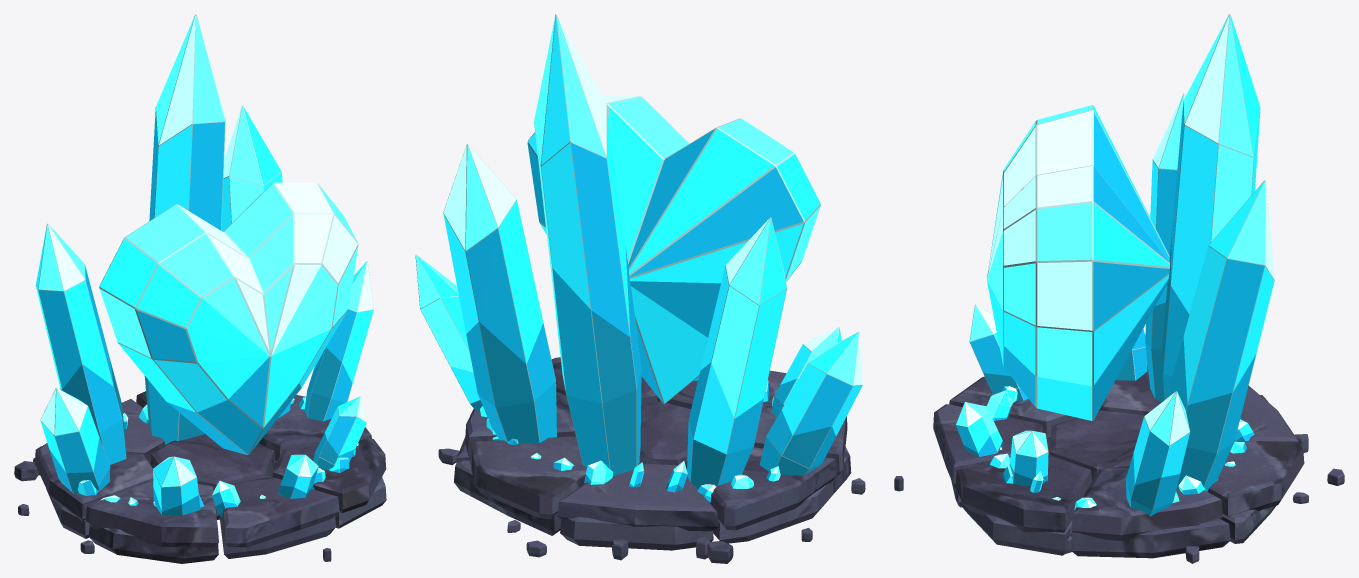
The model's file is SM_CC_CrystalHeart.fbx.
3 renders of one model, left to right at view 1: azimuth 30°, elevation 25°; view 2: azimuth 150°, elevation 25°; view 3: azimuth 270°, elevation 25°, orthographic. The views are drawn at different scales.
Visible parts, largest first — view 1: SM_CC_CrystalHeart; view 2: SM_CC_CrystalHeart; view 3: SM_CC_CrystalHeart.
Part boxes in pixels (x1,y1,x2,y2): SM_CC_CrystalHeart: [14, 14, 386, 563]; SM_CC_CrystalHeart: [415, 14, 865, 563]; SM_CC_CrystalHeart: [894, 14, 1344, 563].
Size of the model in its own units: 3 by 2.94 by 3.5.
